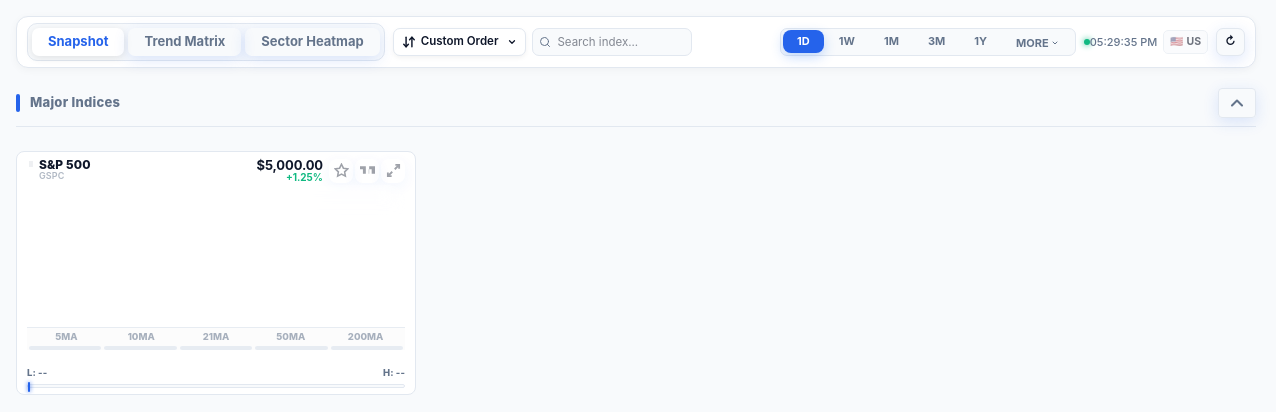
Test: MarketPulseView › renders optimized primary timeframes and supports overflow dropdown selection
Expected: the button "1D" is shown, [783,30,824,53]
Expected: the button "1W" is shown, [825,30,869,53]
Note: Click on 1M
Click the button "1M": (891, 42) [870,30,913,53]
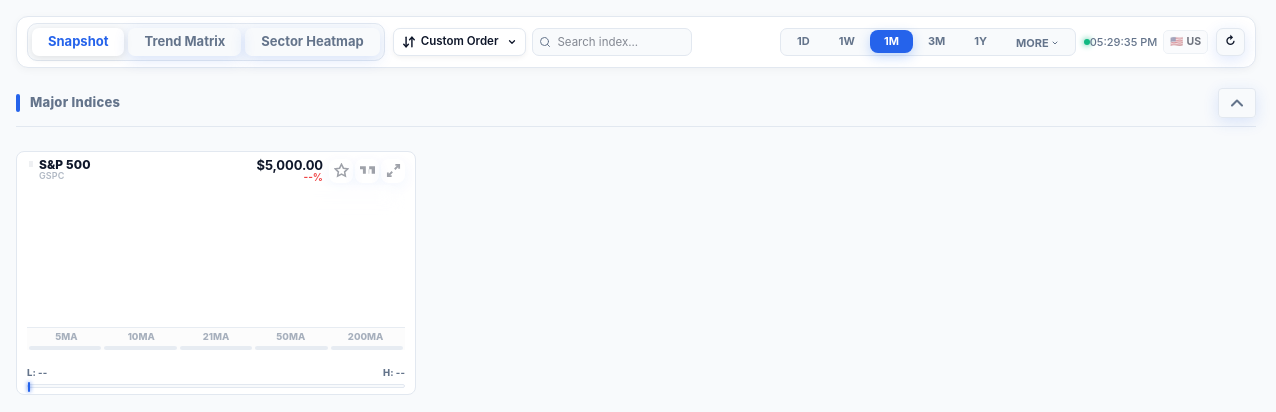
Note: Click "More" to open dropdown
Click the button "More": (1037, 43) [1002,32,1073,55]
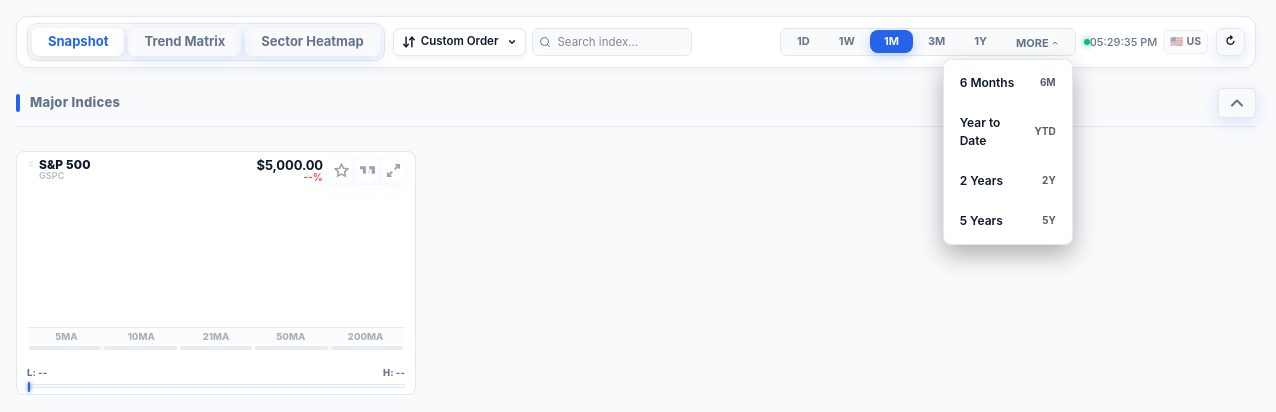
Expected: the text "Year to Date" is shown
Expected: the text "6 Months" is shown, [960,74,1014,92]
Note: Select YTD
Click the text "Year to Date": (980, 131) [960,115,1000,148]
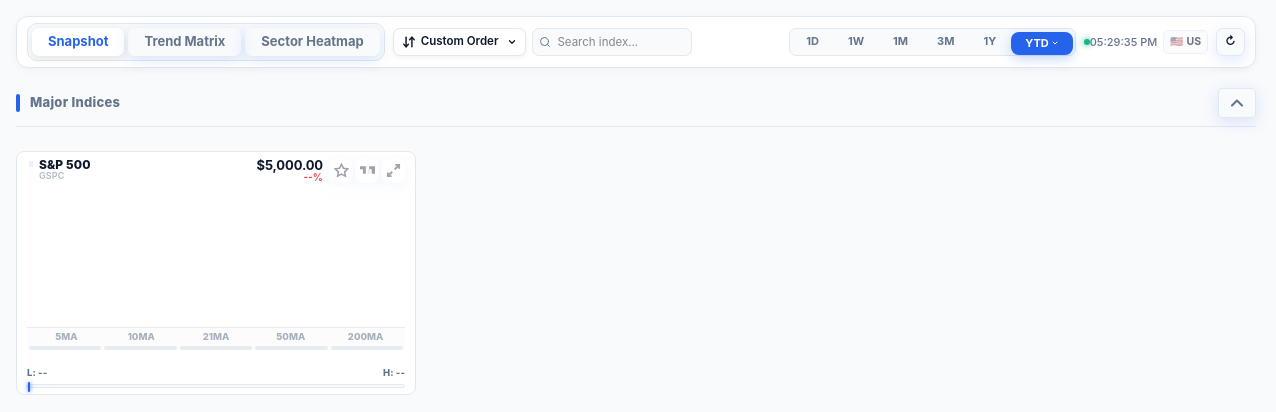
Expected: the button "YTD" is shown, [1011,32,1073,55]
